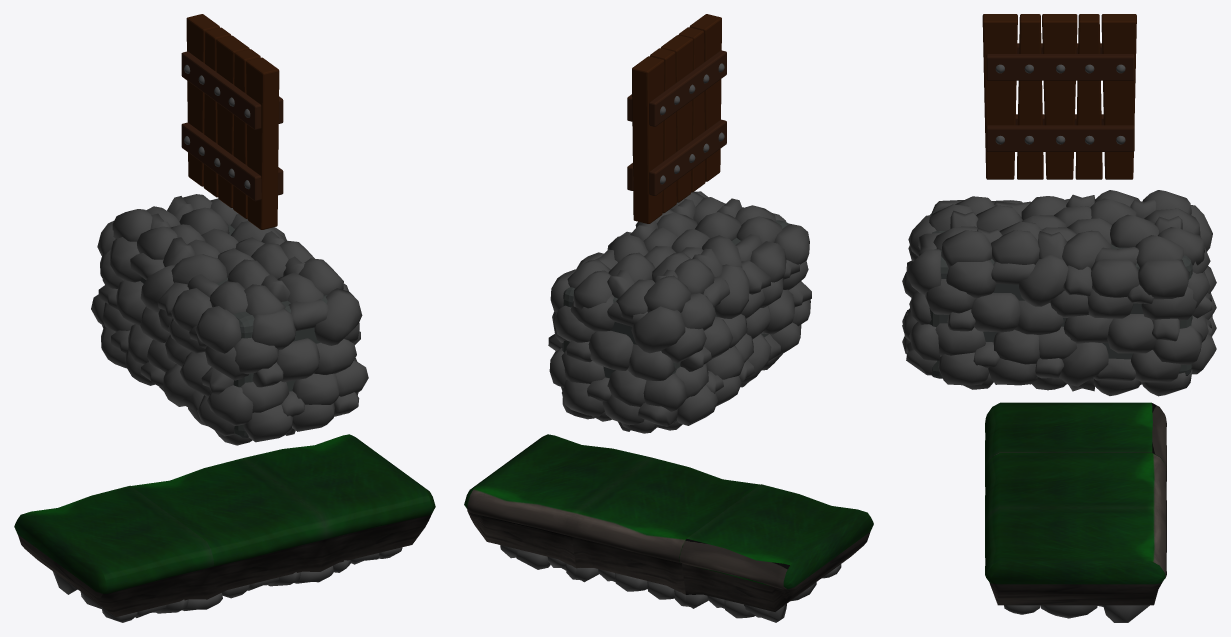
File: Cavena pisoparede.glb
3 views of the same model, side by side, from view 1: azimuth 30°, elevation 25°; view 2: azimuth 150°, elevation 25°; view 3: azimuth 270°, elevation 25° (orthographic). The views are drawn at different scales.
Visible parts, largest first — view 1: bounds, 1-cantoesq.001, door, 1-meio.001, 1-cantodir.001; view 2: bounds, 1-cantoesq.001, door, 1-meio.001, 1-cantodir.001; view 3: bounds, door, 1-cantodir.001, 1-meio.001, 1-cantoesq.001.
Part boxes in pixels (x1=…): bounds: x1=91, y1=194, x2=368, y2=445; 1-cantoesq.001: x1=14, y1=485, x2=213, y2=622; door: x1=181, y1=14, x2=283, y2=229; 1-meio.001: x1=131, y1=458, x2=326, y2=609; 1-cantodir.001: x1=243, y1=434, x2=435, y2=582; bounds: x1=548, y1=191, x2=811, y2=433; 1-cantoesq.001: x1=679, y1=484, x2=873, y2=622; door: x1=627, y1=14, x2=726, y2=223; 1-meio.001: x1=570, y1=457, x2=759, y2=606; 1-cantodir.001: x1=464, y1=434, x2=650, y2=580; bounds: x1=902, y1=190, x2=1216, y2=396; door: x1=982, y1=14, x2=1136, y2=179; 1-cantodir.001: x1=985, y1=507, x2=1166, y2=622; 1-meio.001: x1=985, y1=453, x2=1166, y2=525; 1-cantoesq.001: x1=985, y1=402, x2=1166, y2=470.
Size of the model in its own units: 6 by 9.23 by 4.85.
5 materials, 1 textured.
